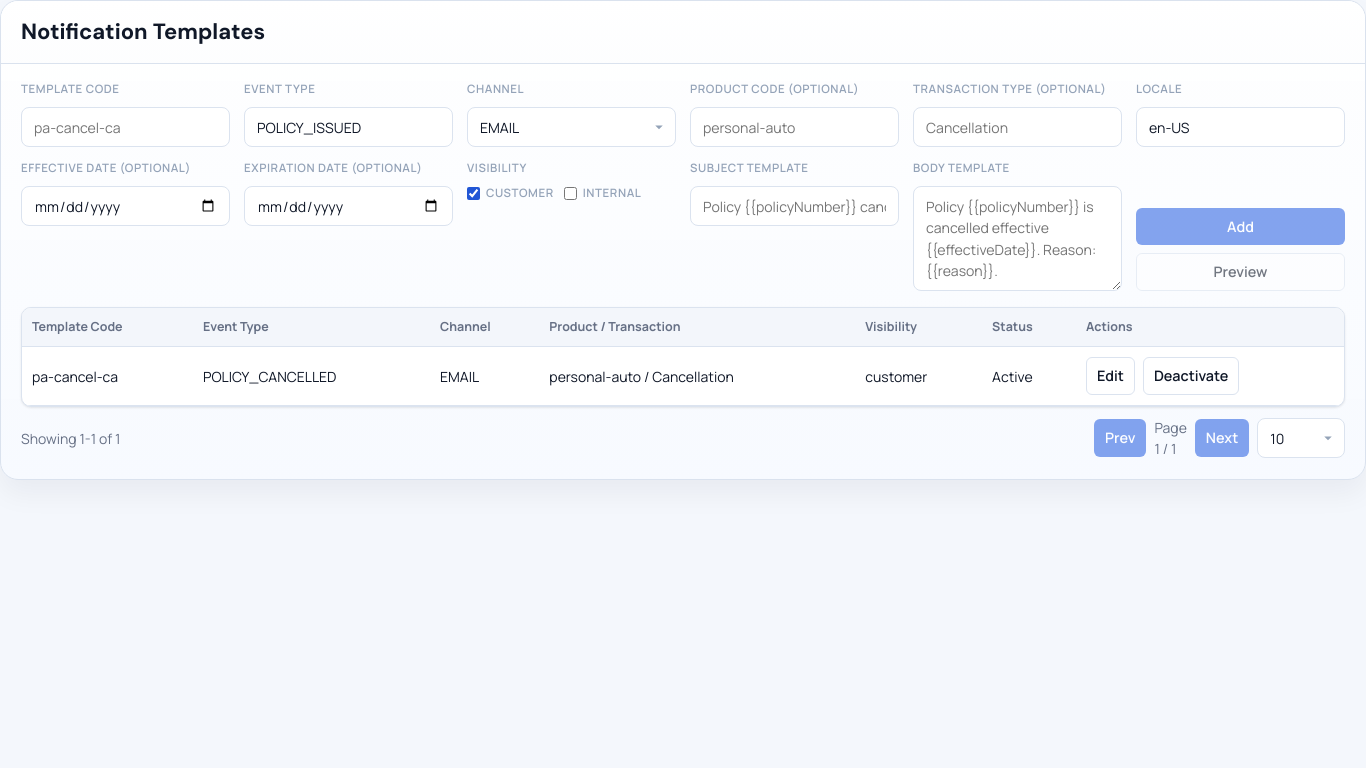
Test: NotificationTemplatesPage › renders a preview using sample merge fields
Click the button "Edit". click: (1110, 376)
box: [1086,358,1135,395]
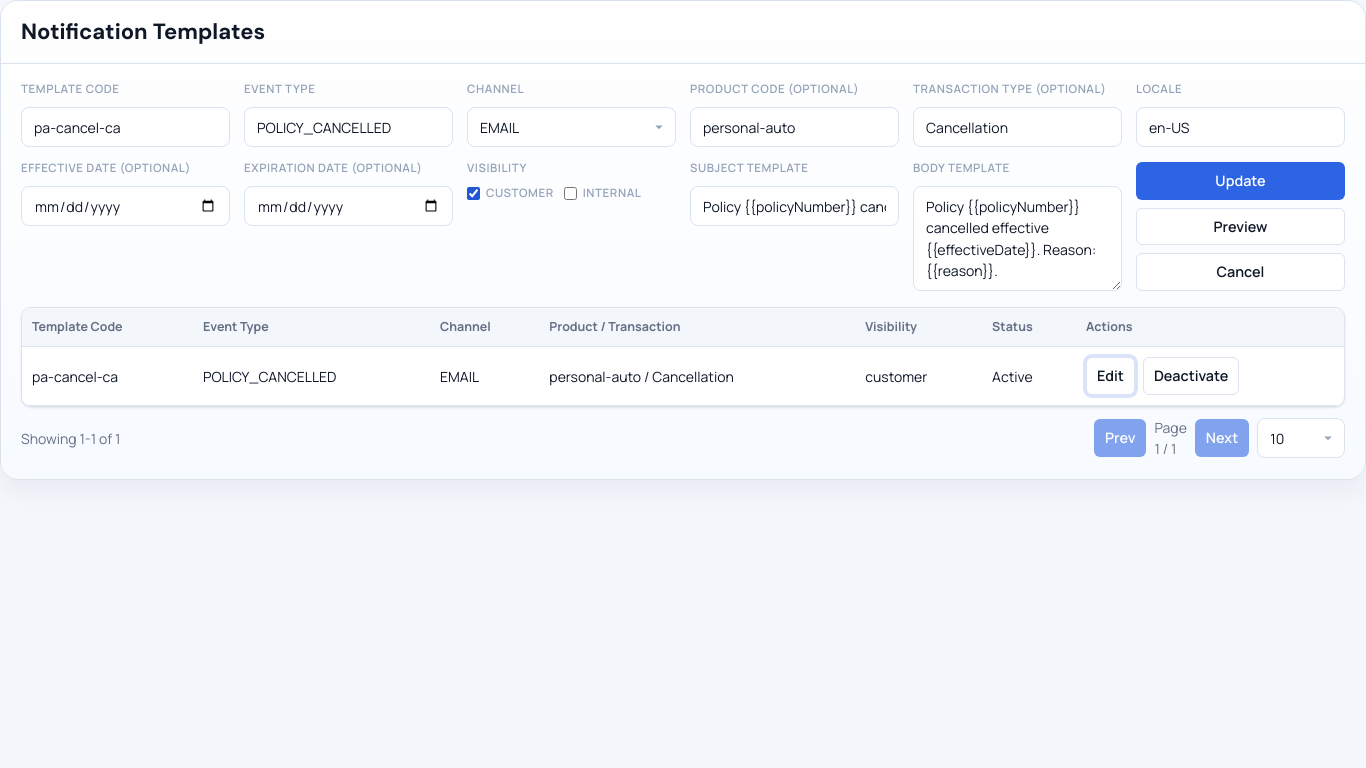
Click the button "Preview". click: (1240, 226)
box: [1136,208,1345,245]
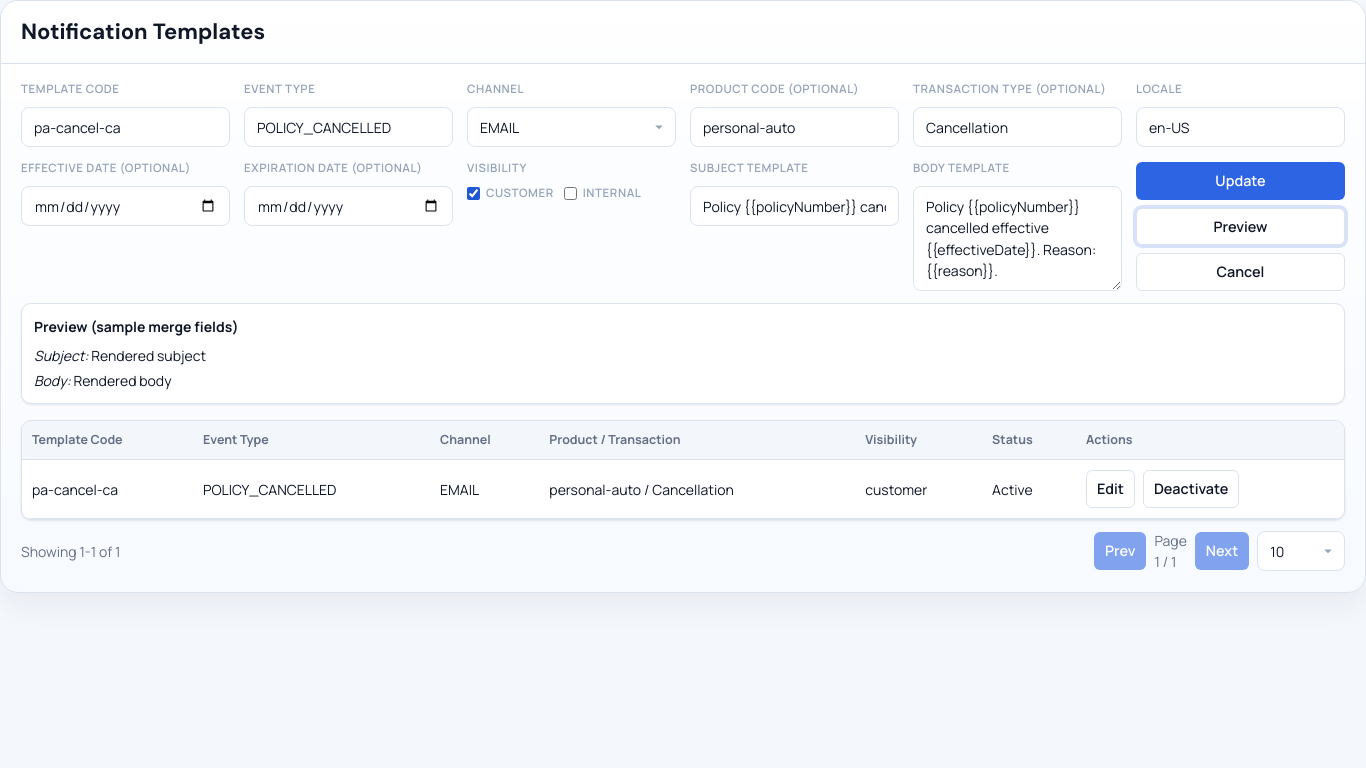
expect the text "Rendered subject" is shown: met, box [91,346,206,365]
expect the text "Rendered body" is shown: met, box [74,371,172,390]
